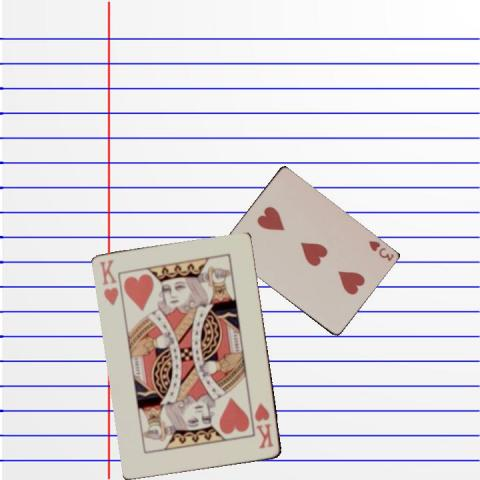3h: (365, 237, 395, 263)
Kh: (252, 400, 276, 451), (96, 256, 120, 306)
